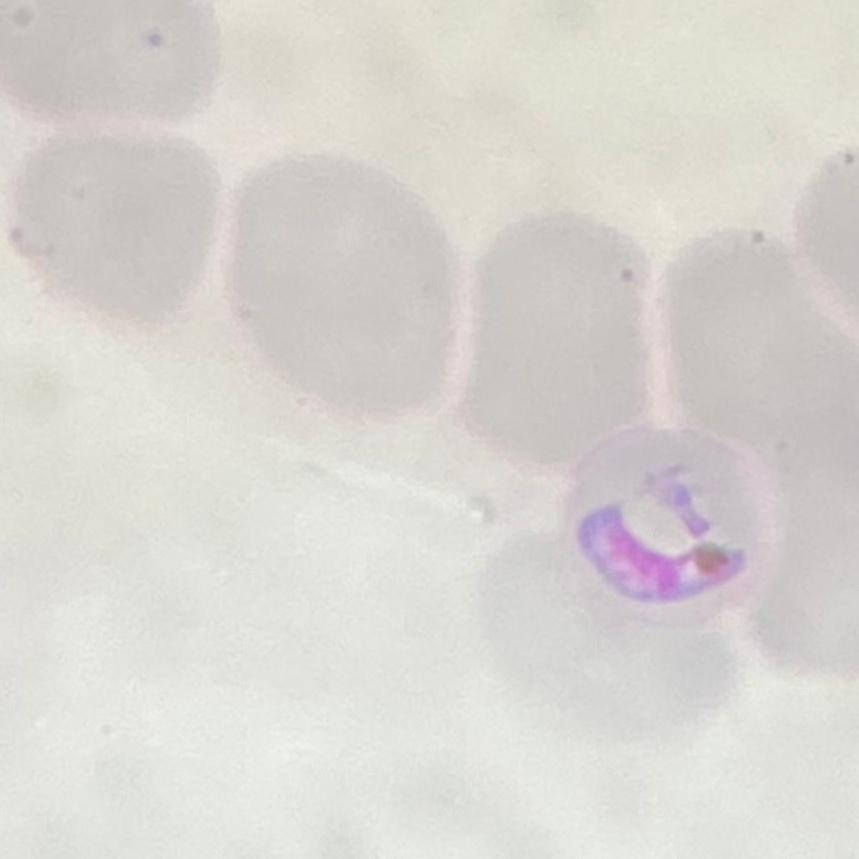Infected: (574, 425, 781, 624)
Uninfected: (232, 155, 459, 418), (478, 525, 742, 745), (466, 211, 659, 472), (10, 127, 214, 334)
